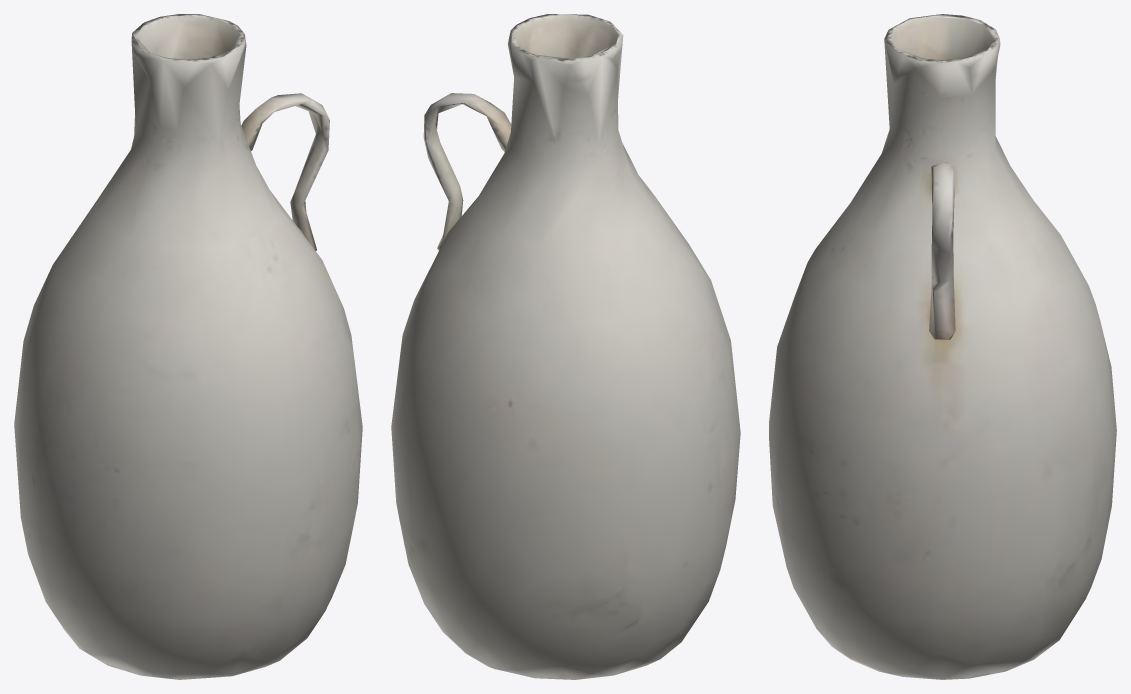
File: ceramic_vase_04.glb
The picture shows the model from 3 angles, left to right: view 1: azimuth 30°, elevation 25°; view 2: azimuth 150°, elevation 25°; view 3: azimuth 270°, elevation 25°; orthographic projection.
Visible parts, largest first — view 1: ceramic_vase_04; view 2: ceramic_vase_04; view 3: ceramic_vase_04.
Part boxes in pixels (box(x1,y1,x2,y2)): ceramic_vase_04: box(14, 14, 362, 679); ceramic_vase_04: box(391, 14, 740, 679); ceramic_vase_04: box(769, 14, 1116, 679).
Bounding box in the file's own units: 0.1812 × 0.341 × 0.1805.
1 material, 1 textured.
